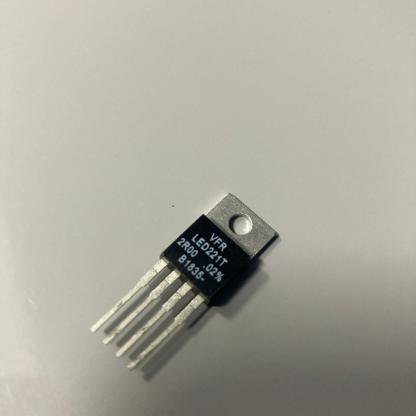SP0000012: (34, 129, 298, 402)
